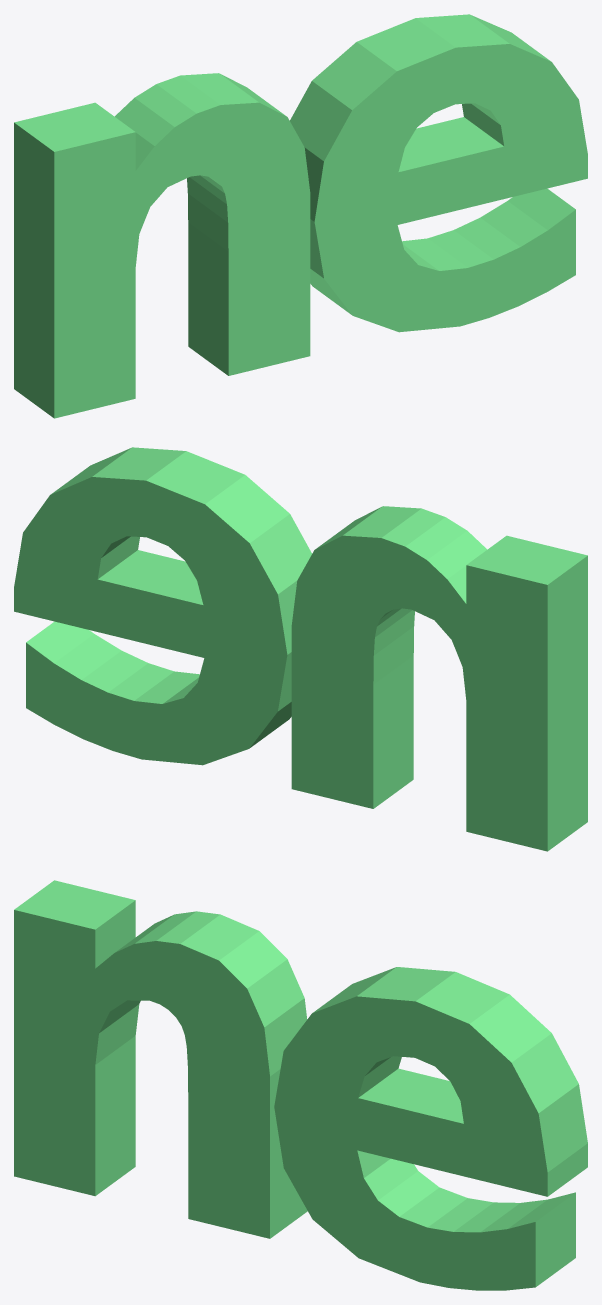
Rendered from suku_kecil_ne.glb.
The picture shows the model from 3 angles, top to bottom: view 1: azimuth 30°, elevation 25°; view 2: azimuth 150°, elevation 25°; view 3: azimuth 330°, elevation 25°; orthographic projection.
Parts seen in each view (by area): view 1: geometry_0; view 2: geometry_0; view 3: geometry_0.
Part boxes in pixels (x1,y1,x2,y2): geometry_0: [14, 14, 587, 418]; geometry_0: [14, 447, 587, 851]; geometry_0: [14, 880, 587, 1290].
Bounding box in the file's own units: 11.45 × 5.74 × 1.5.
